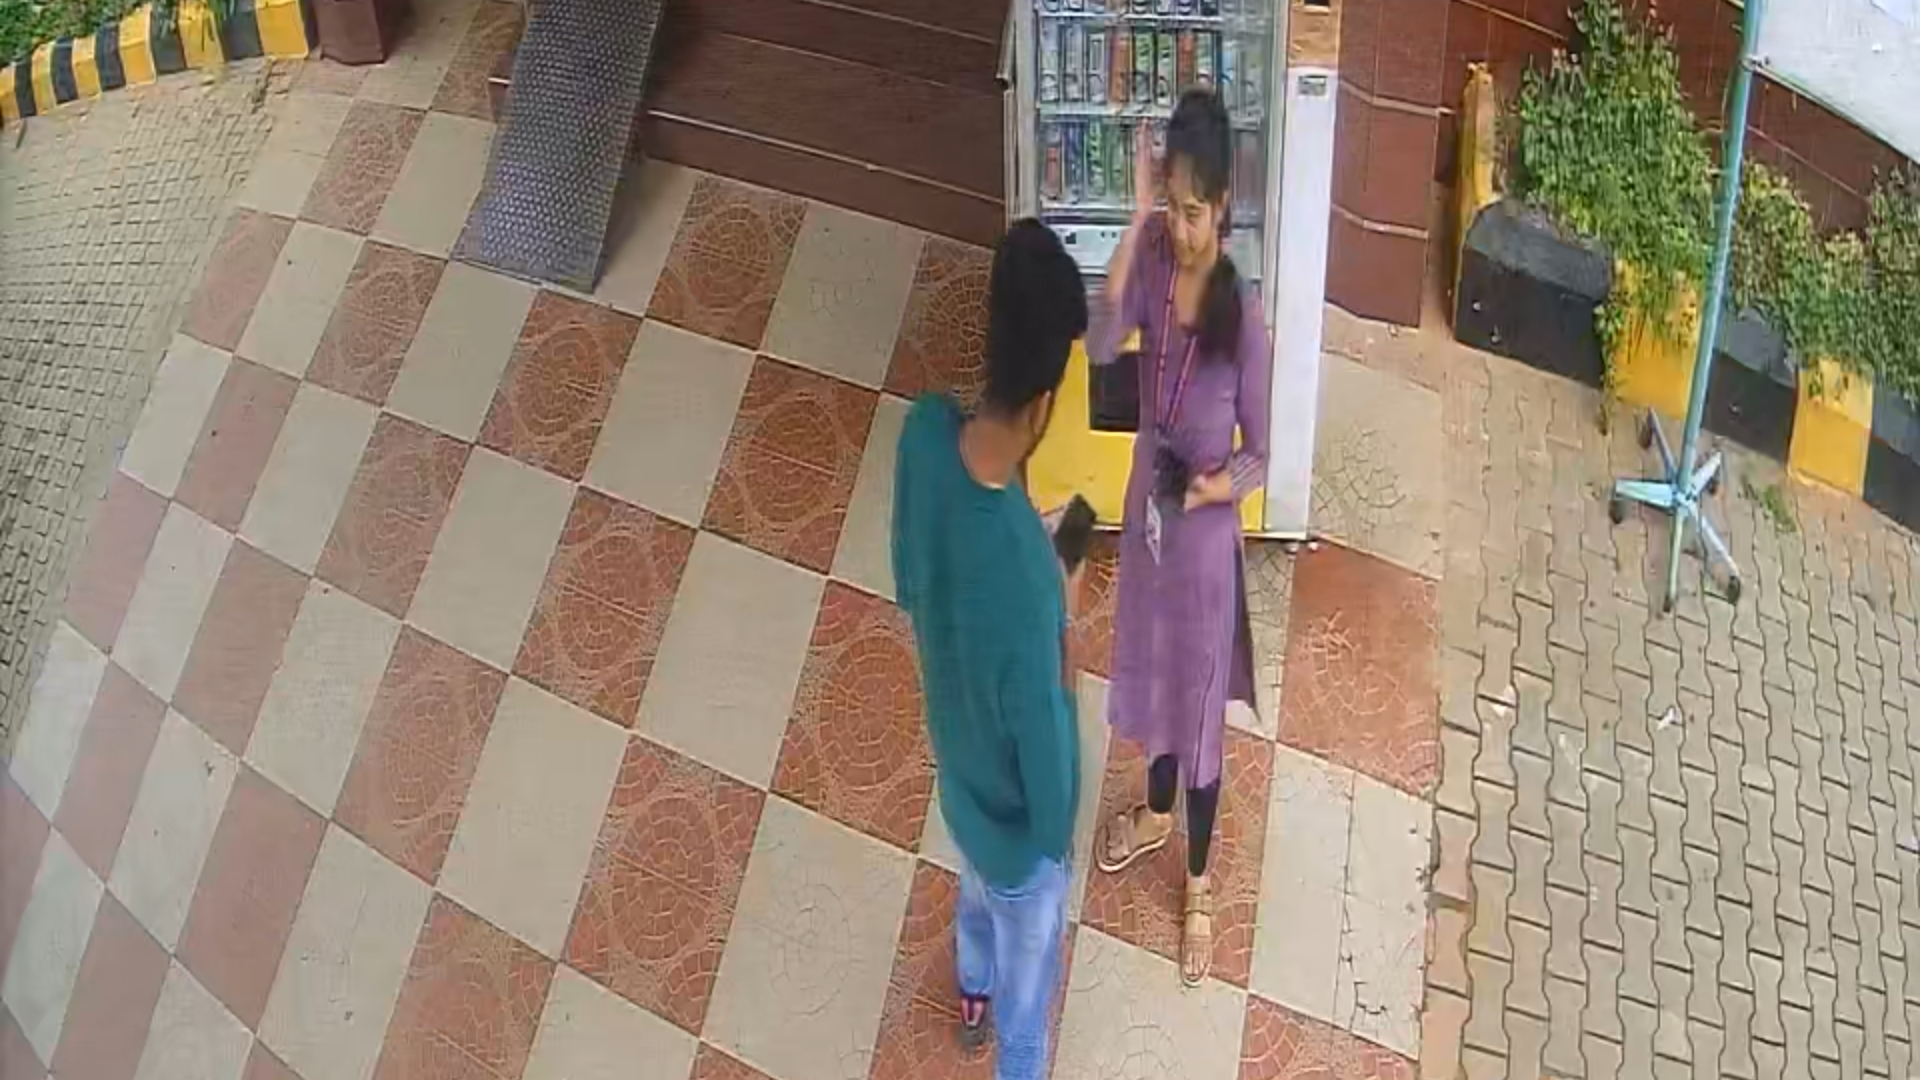not intruder: (1097, 92, 1302, 1007)
